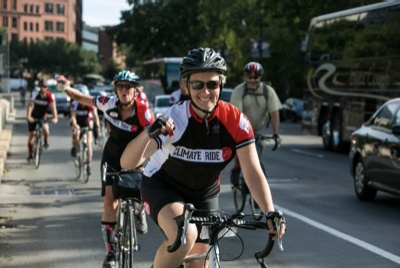helmet: (177, 46, 230, 113), (110, 68, 141, 106)
